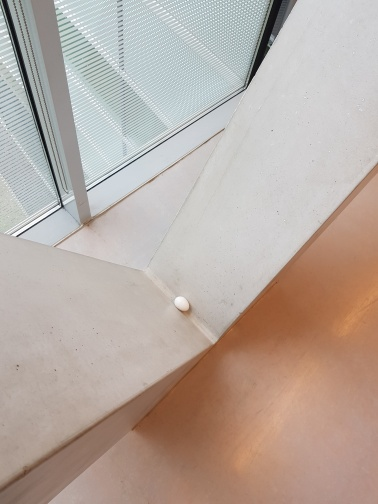egg: (172, 292, 191, 313)
